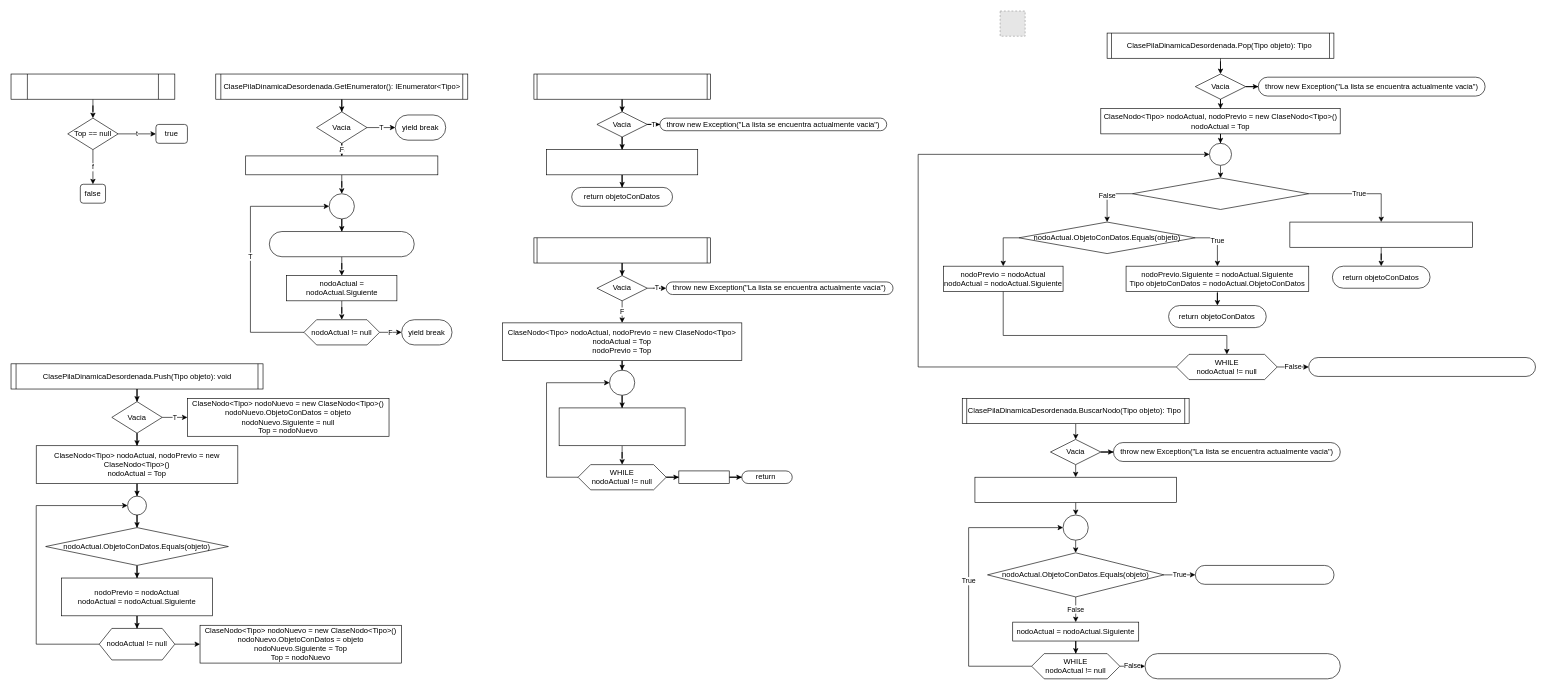
Image size: 1547x690. Some labels were removed from this diagram. Grey dashed boxes stand in for pictures. The shapes that lost their labels are listed below. From the top down, each one's centre as x and y in pixels, then its label:
(92,86): ClasePilaDinamicaDesordenada.Vacia { get; set; }: bool
(621,86): ClasePilaDinamicaDesordenada.Pop(): Tipo
(341,165): ClaseNodo<Tipo> nodoActual = new ClaseNodo<Tipo> nodoActual = Top
(622,162): Tipo objetoConDatos = Top.ObjetoConDatos Top = Top.Siguente
(1220,193): Top.ObjetoConDatos.Equals(objeto)
(341,244): yield return (nodoActual.ObjetoConDatos)
(621,250): ClasePilaDinamicaDesordenada.Vaciar(): void
(1381,234): TIpo objetoConDatos = nodoActual.ObjetoConDatos Top = Top.Siguiente
(1421,366): throw new Exception("No se encontró el objeto para eliminar")
(621,426): nodoPrevio = nodoActual nodoActual = nodoActual.Siguiente nodoPrevio = null
(703,477): Top = null
(1075,489): ClaseNodo<Tipo> nodoActual = new ClaseNodo<Tipo>() nodoActual = Top
(1264,574): return nodoActual.ObjetoConDatos
(1242,666): throw new Exception("El elemento buscado no existe")
